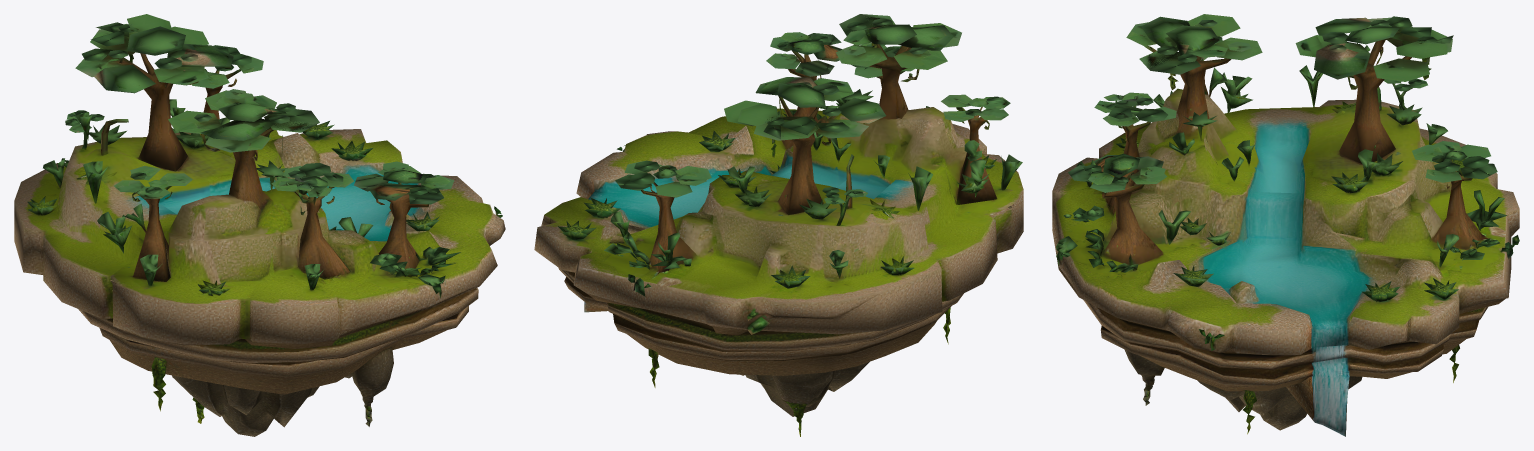
File: floating_island_3d_model.fbx
3 views of the same model, side by side, from view 1: azimuth 30°, elevation 25°; view 2: azimuth 150°, elevation 25°; view 3: azimuth 270°, elevation 25° (orthographic). The views are drawn at different scales.
Visible parts, largest first — view 1: tripo_node_7e7f9994; view 2: tripo_node_7e7f9994; view 3: tripo_node_7e7f9994.
Boxes of the visible parts, x1,y1,x2,y2 form: tripo_node_7e7f9994: (14,14,505,436); tripo_node_7e7f9994: (534,14,1023,436); tripo_node_7e7f9994: (1052,14,1519,436).
Bounding box in the file's own units: 0.998 × 0.8848 × 0.998.
1 material, 1 textured.
